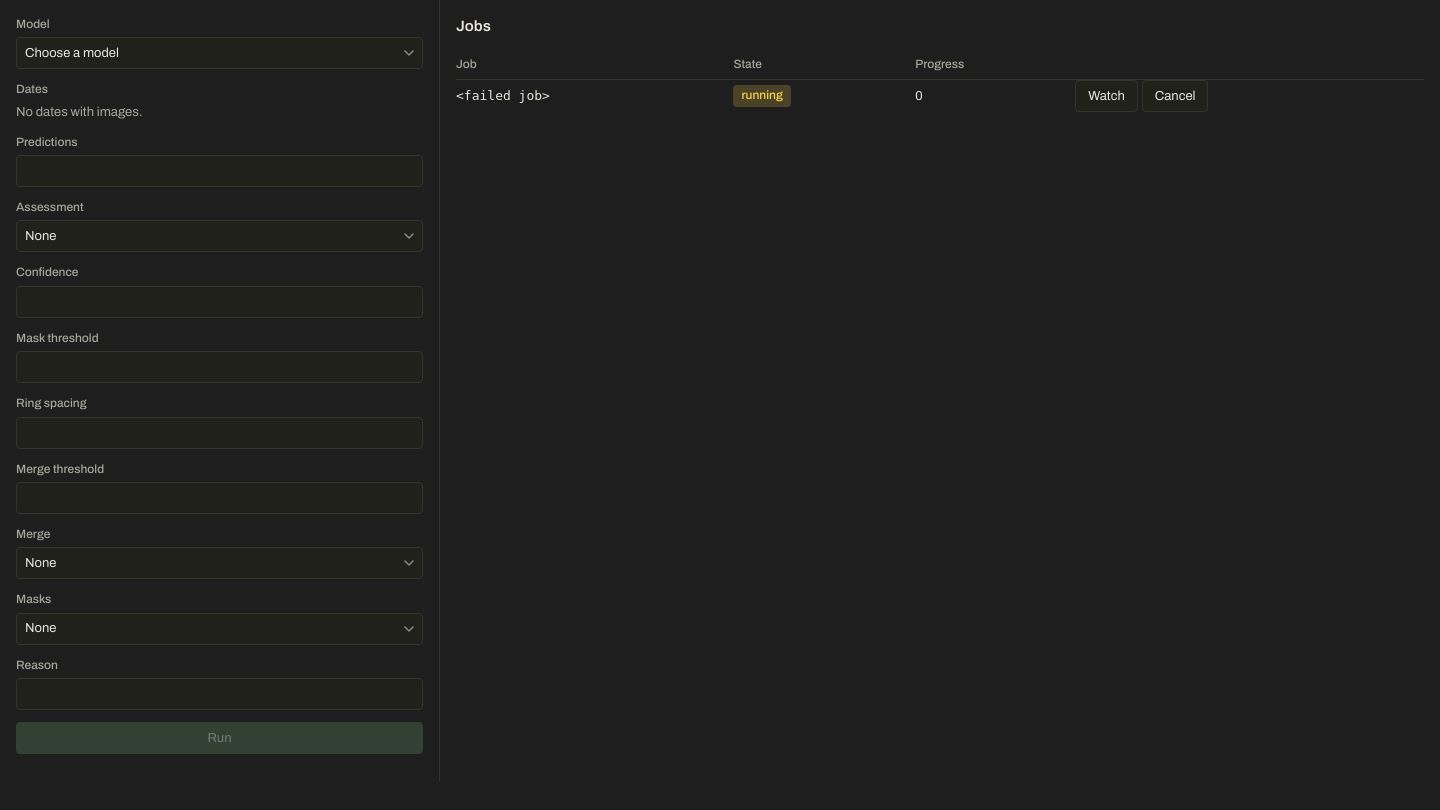
InferenceTab job table › carries a final frame's error into the watched job panel
Expected: the text "<failed job>" is shown, [456,80,733,112]
Click the button "Watch": (1107, 96) [1075,80,1138,112]
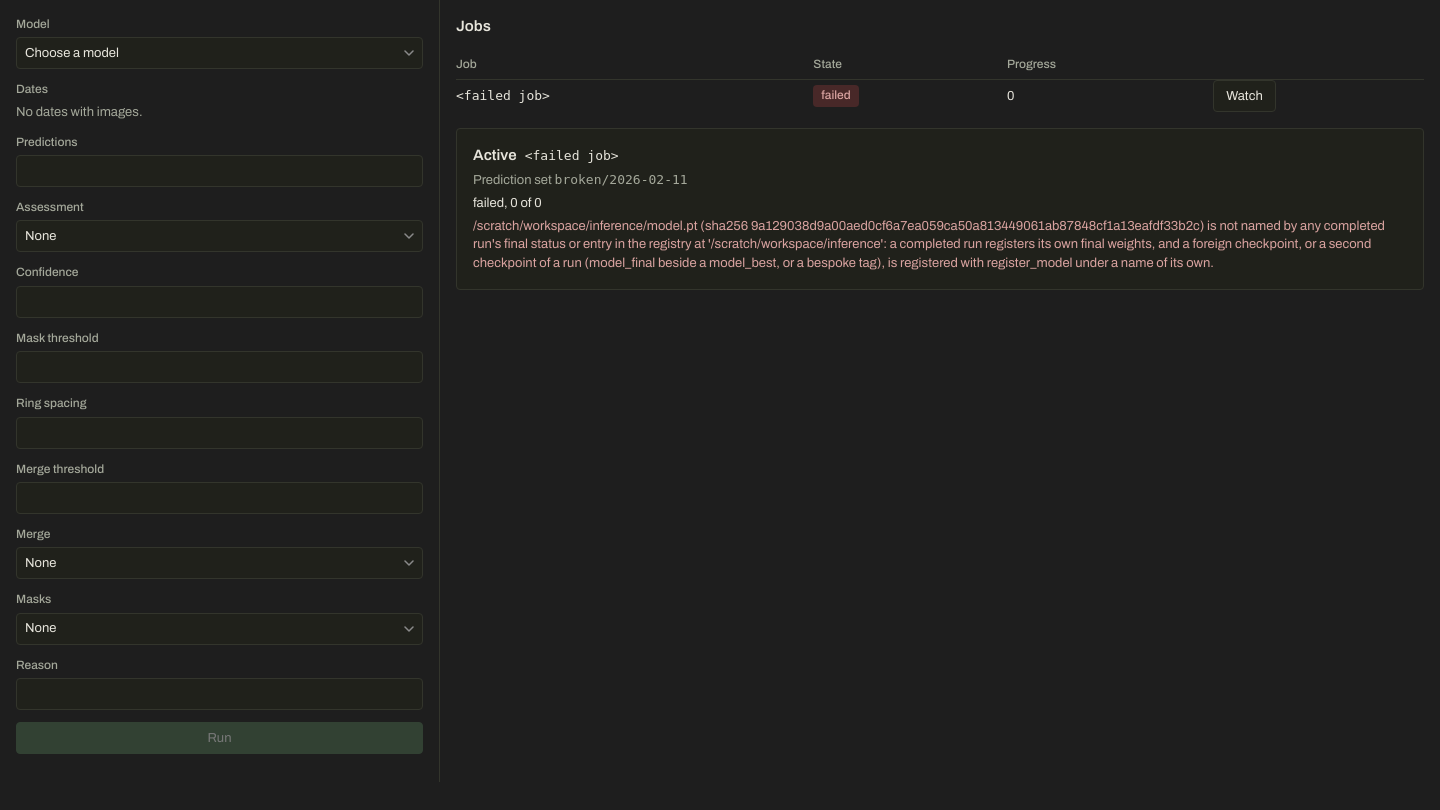
Expected: the text "/scratch/workspace/inference/model.pt (sha256 9a129038d9a00aed0cf6a7ea059ca50a813449061ab87848cf1a13eafdf33b2c) is not n" is shown, [473,219,1385,270]
